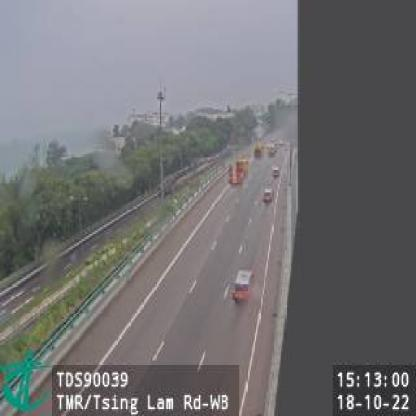Car: (232, 267, 256, 305), (261, 186, 273, 205), (272, 164, 281, 178)
Truck: (229, 156, 250, 189)
